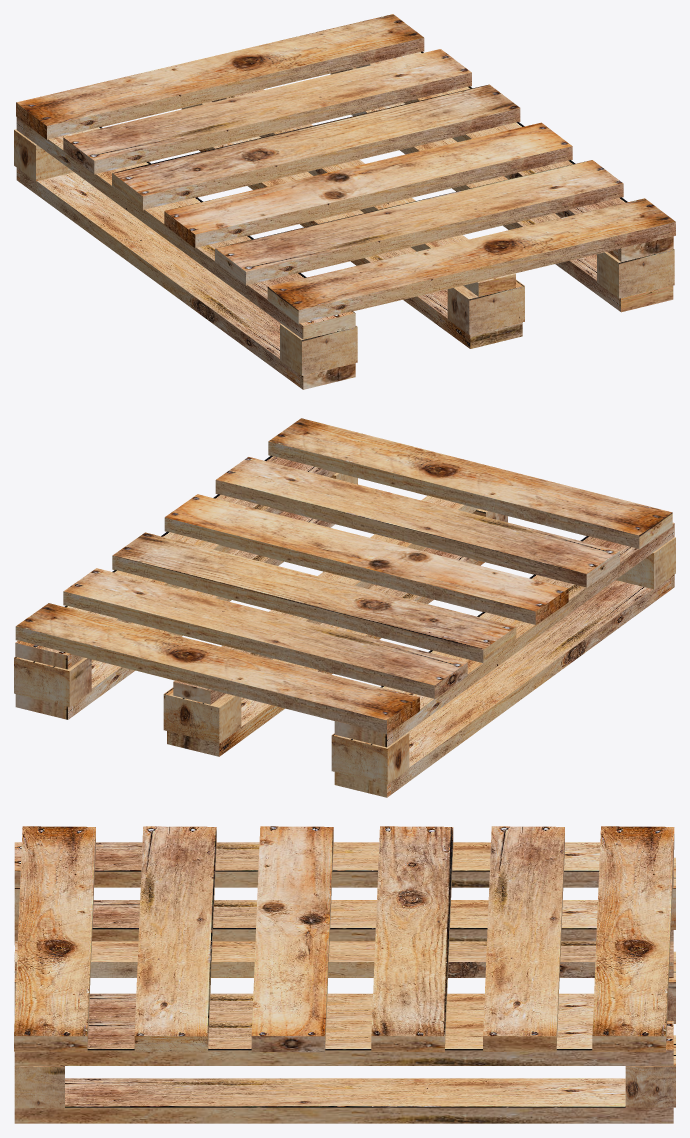
The model's file is paletUEUniversal.fbx.
3 views of the same model, one above another, from view 1: azimuth 30°, elevation 25°; view 2: azimuth 150°, elevation 25°; view 3: azimuth 270°, elevation 25° (orthographic). The views are drawn at different scales.
Visible parts, largest first — view 1: WoodPlank.012, WoodPlank.004, WoodPlank.010, WoodPlank.007, WoodPlank.002, WoodPlank.001, WoodPlank.006, WoodPlank.009, WoodPlank.013, WoodPlank.008, Wood, Wood.001 (+4 smaller); view 2: WoodPlank.001, WoodPlank.007, WoodPlank.012, WoodPlank.004, WoodPlank.010, WoodPlank.002, WoodPlank.006, WoodPlank.009, Wood.004, WoodPlank.013, Wood.005, Wood.003 (+4 smaller); view 3: WoodPlank.008, WoodPlank.004, WoodPlank.010, WoodPlank.001, WoodPlank.002, WoodPlank.007, WoodPlank.012, WoodPlank.003, WoodPlank.009, WoodPlank.006, WoodPlank.011, WoodPlank.013 (+2 smaller).
Boxes of the visible parts, x1,y1,x2,y2 form: WoodPlank.012: [267, 198, 675, 323]; WoodPlank.004: [215, 160, 623, 285]; WoodPlank.010: [164, 122, 572, 248]; WoodPlank.007: [63, 49, 471, 174]; WoodPlank.002: [112, 84, 520, 210]; WoodPlank.001: [16, 14, 424, 139]; WoodPlank.006: [16, 168, 355, 389]; WoodPlank.009: [16, 117, 355, 339]; WoodPlank.013: [199, 136, 522, 348]; WoodPlank.008: [351, 102, 673, 312]; Wood: [447, 279, 524, 335]; Wood.001: [280, 324, 357, 375]; WoodPlank.001: [15, 603, 419, 734]; WoodPlank.007: [63, 568, 467, 699]; WoodPlank.012: [268, 418, 672, 549]; WoodPlank.004: [215, 457, 619, 587]; WoodPlank.010: [164, 494, 568, 625]; WoodPlank.002: [112, 532, 516, 663]; WoodPlank.006: [334, 574, 674, 797]; WoodPlank.009: [334, 522, 674, 747]; Wood.004: [163, 687, 241, 743]; WoodPlank.013: [167, 547, 484, 756]; Wood.005: [331, 732, 409, 784]; Wood.003: [14, 657, 91, 707]; WoodPlank.008: [14, 1078, 673, 1123]; WoodPlank.004: [134, 826, 216, 1052]; WoodPlank.010: [251, 826, 333, 1052]; WoodPlank.001: [592, 826, 674, 1052]; WoodPlank.002: [371, 826, 453, 1052]; WoodPlank.007: [483, 826, 564, 1052]; WoodPlank.012: [14, 826, 95, 1052]; WoodPlank.003: [14, 1021, 673, 1065]; WoodPlank.009: [14, 842, 673, 887]; WoodPlank.006: [14, 900, 673, 944]; WoodPlank.011: [15, 941, 673, 977]; WoodPlank.013: [88, 993, 593, 1020].
Size of the model in its own units: 170 by 33.5 by 226.
Materials: 18 (18 with a texture image).
